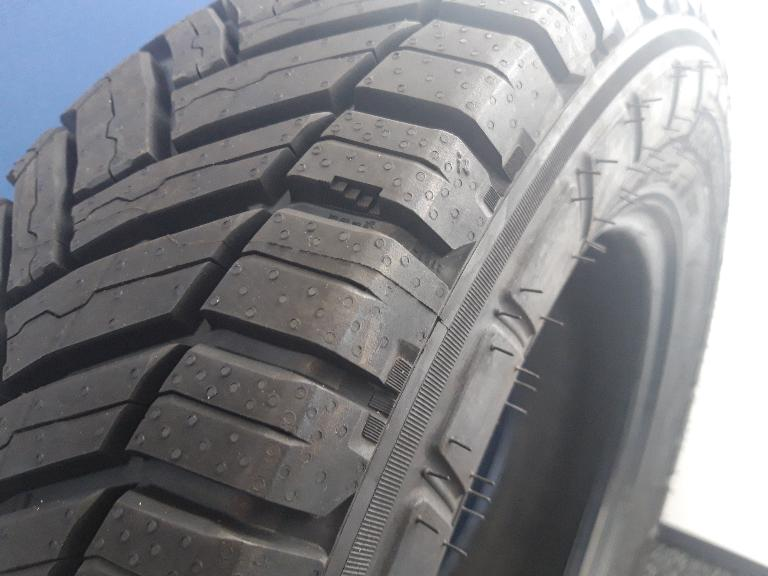temoin:100: (318, 174, 385, 222)
